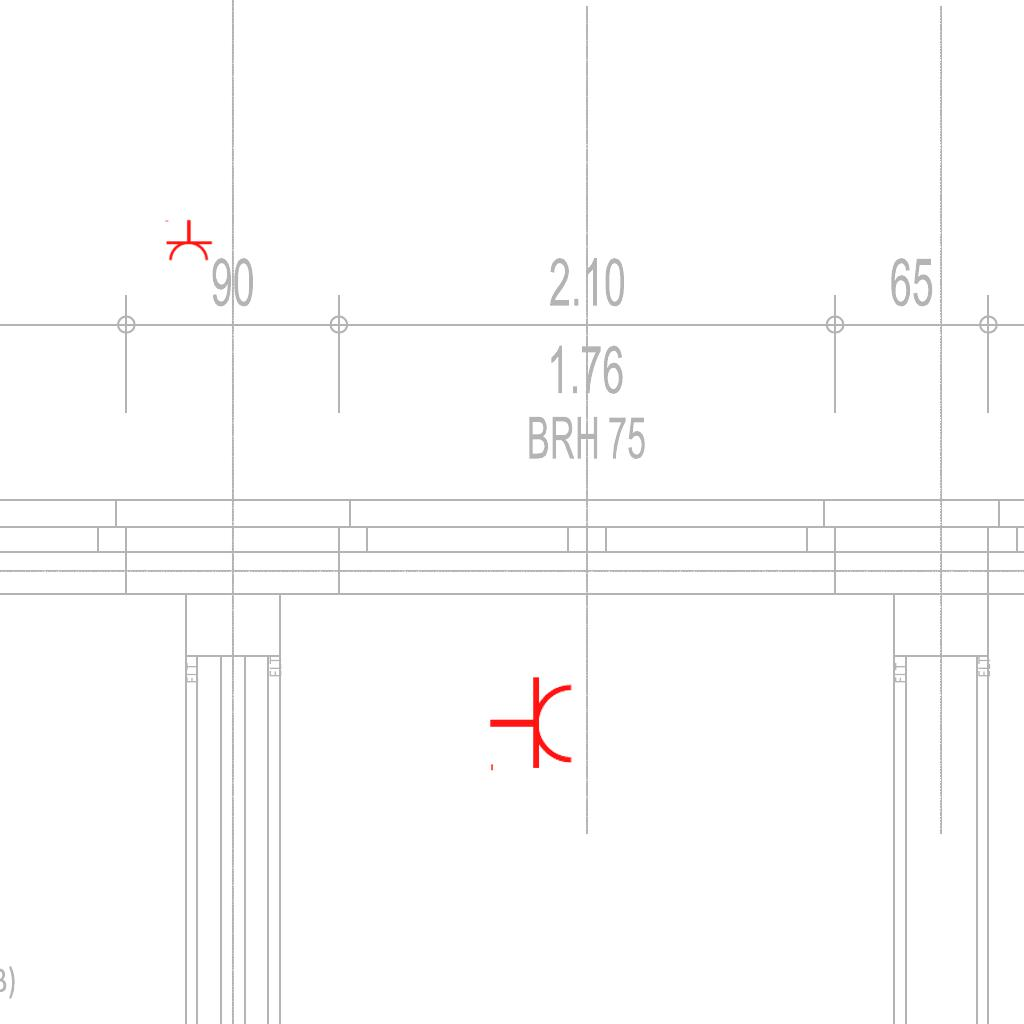Schukosteckdose_einfach: (488, 675, 575, 775), (163, 219, 213, 262)
